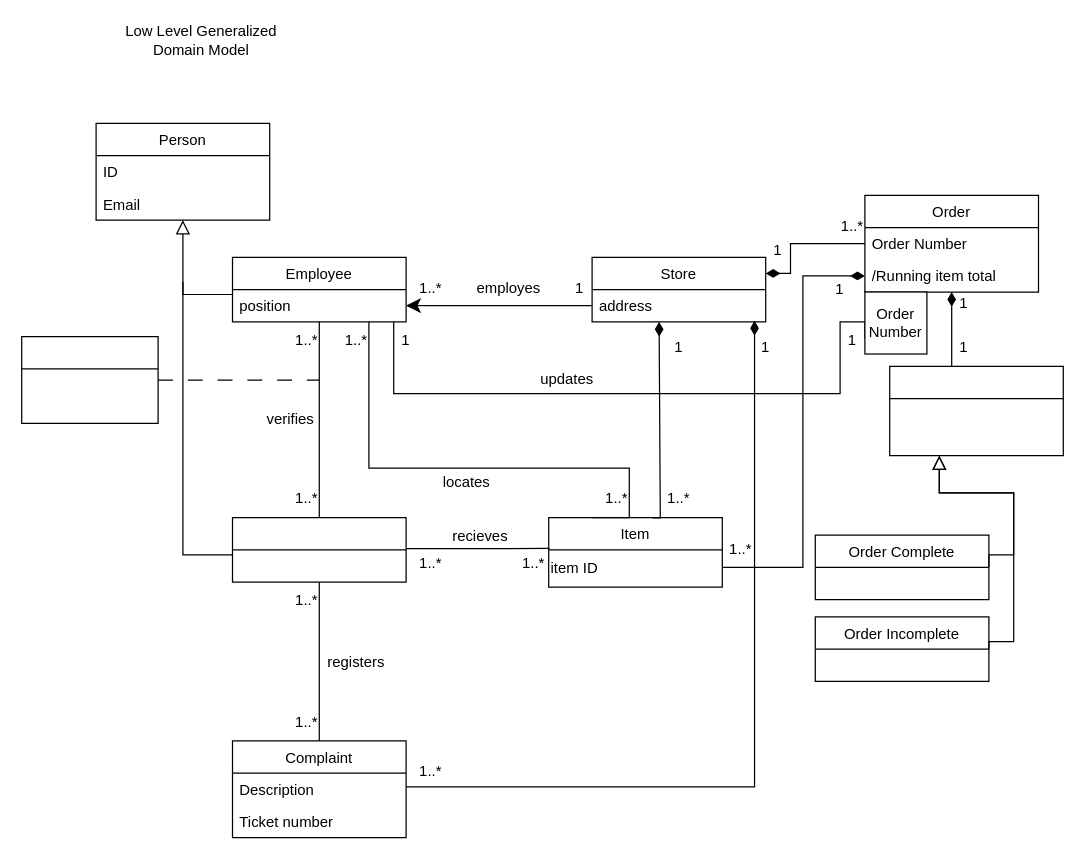
Some shapes in this 1085 by 862 pixel diagram are drawn without their labels. Here are the shapes that lost their labels. From the top down, the centre of each, then its label:
At pixel 89 379: "Verification Service".
At pixel 975 410: "Order Completion State".
At pixel 318 549: "Customer".
